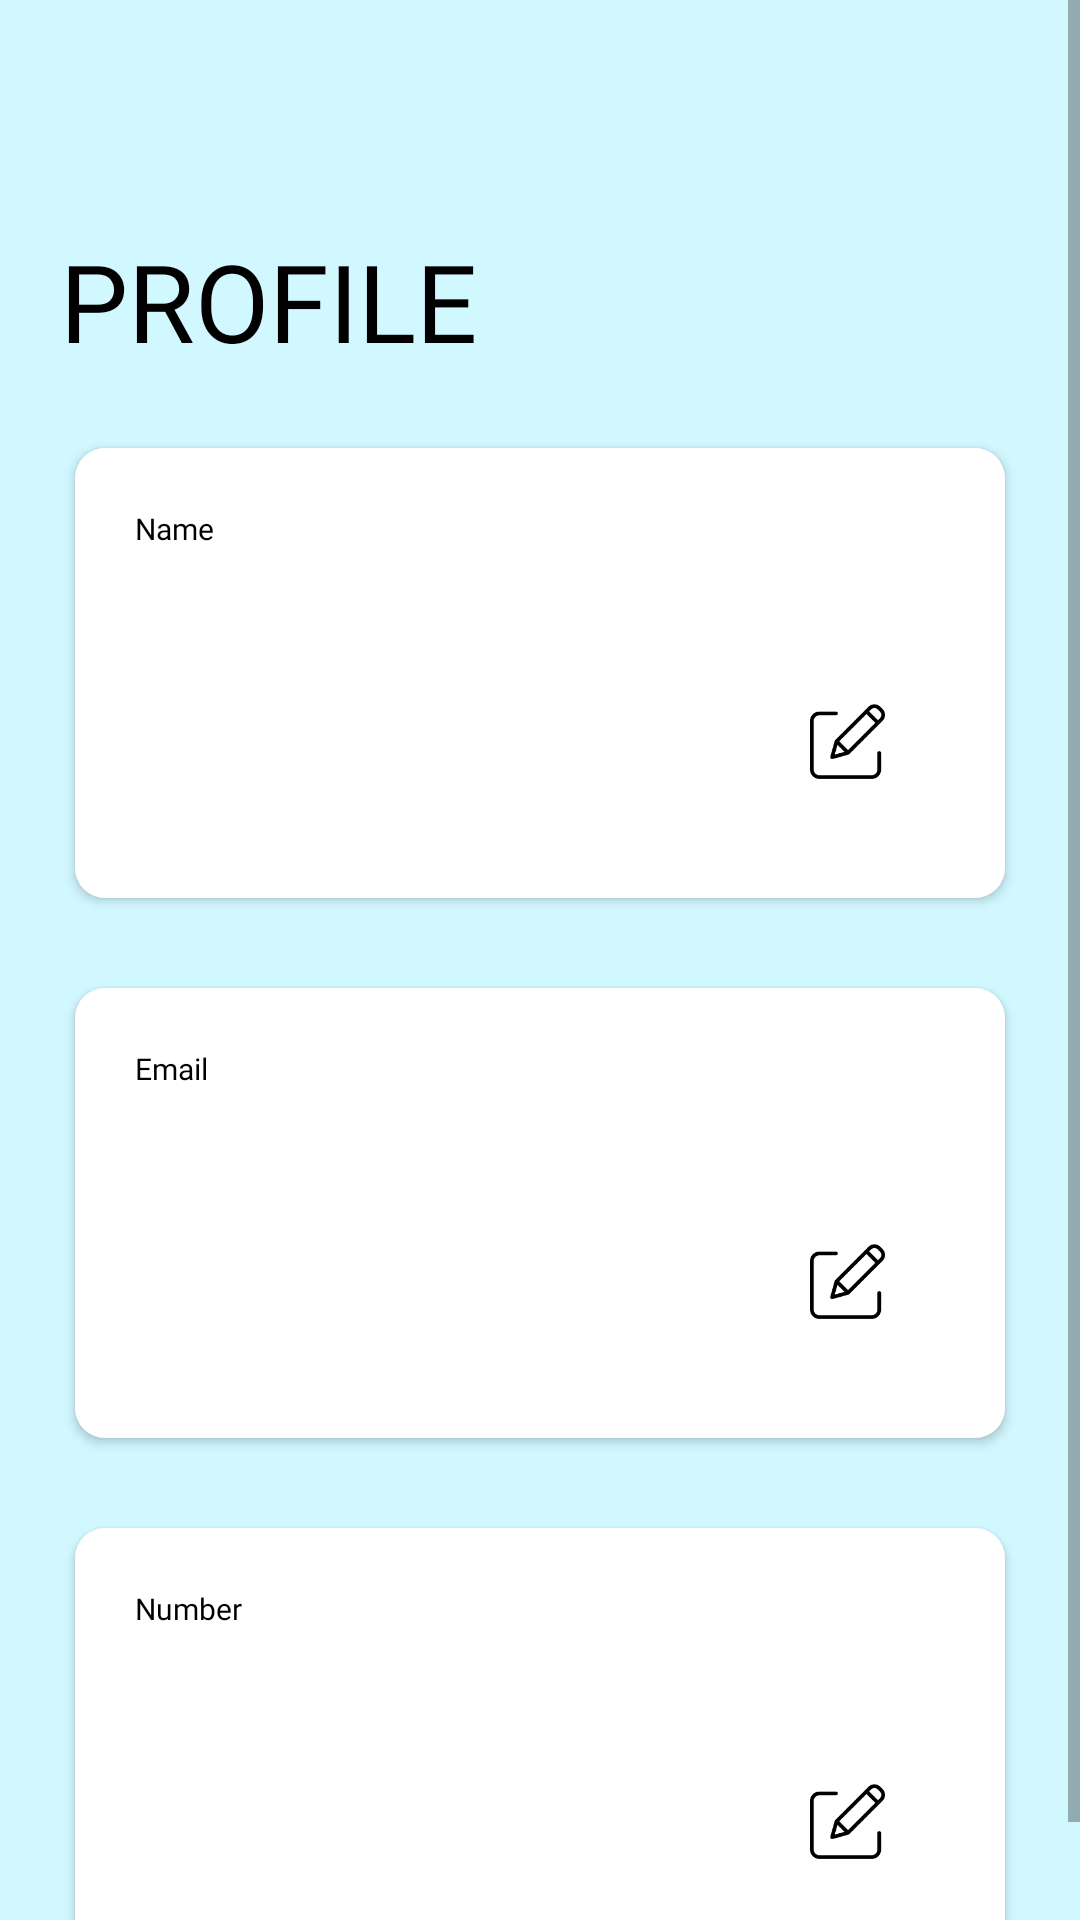

Named icons in this screenshot (1080 × 1920) and their centers, (x=x, y=y):
edit: (x=847, y=741), (x=847, y=1281), (x=847, y=1821)
